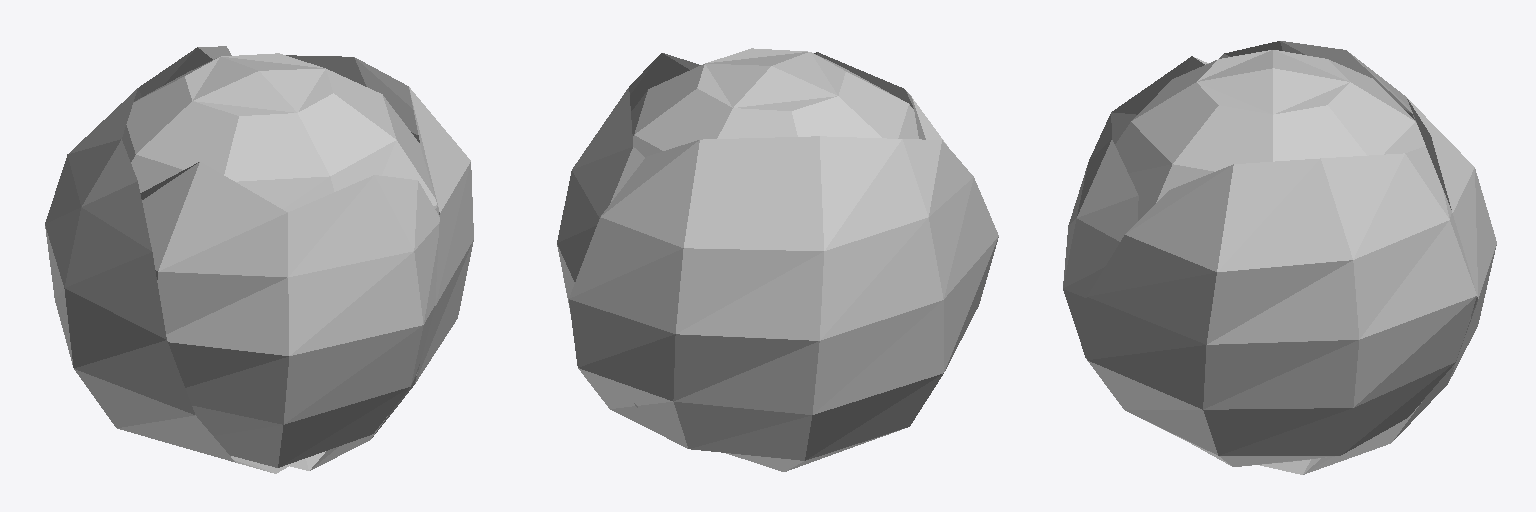
File: cabbage.obj
3 views of the same model, side by side, from view 1: azimuth 30°, elevation 25°; view 2: azimuth 150°, elevation 25°; view 3: azimuth 270°, elevation 25° (orthographic).
Parts seen in each view (by area): view 1: SM_VegetableCabage; view 2: SM_VegetableCabage; view 3: SM_VegetableCabage.
Part boxes in pixels (left/top/right/bottom): SM_VegetableCabage: left=45, top=46, right=473, bottom=473; SM_VegetableCabage: left=557, top=48, right=998, bottom=471; SM_VegetableCabage: left=1063, top=41, right=1496, bottom=474.
Bounding box in the file's own units: 0.8424 × 0.8225 × 0.8627.